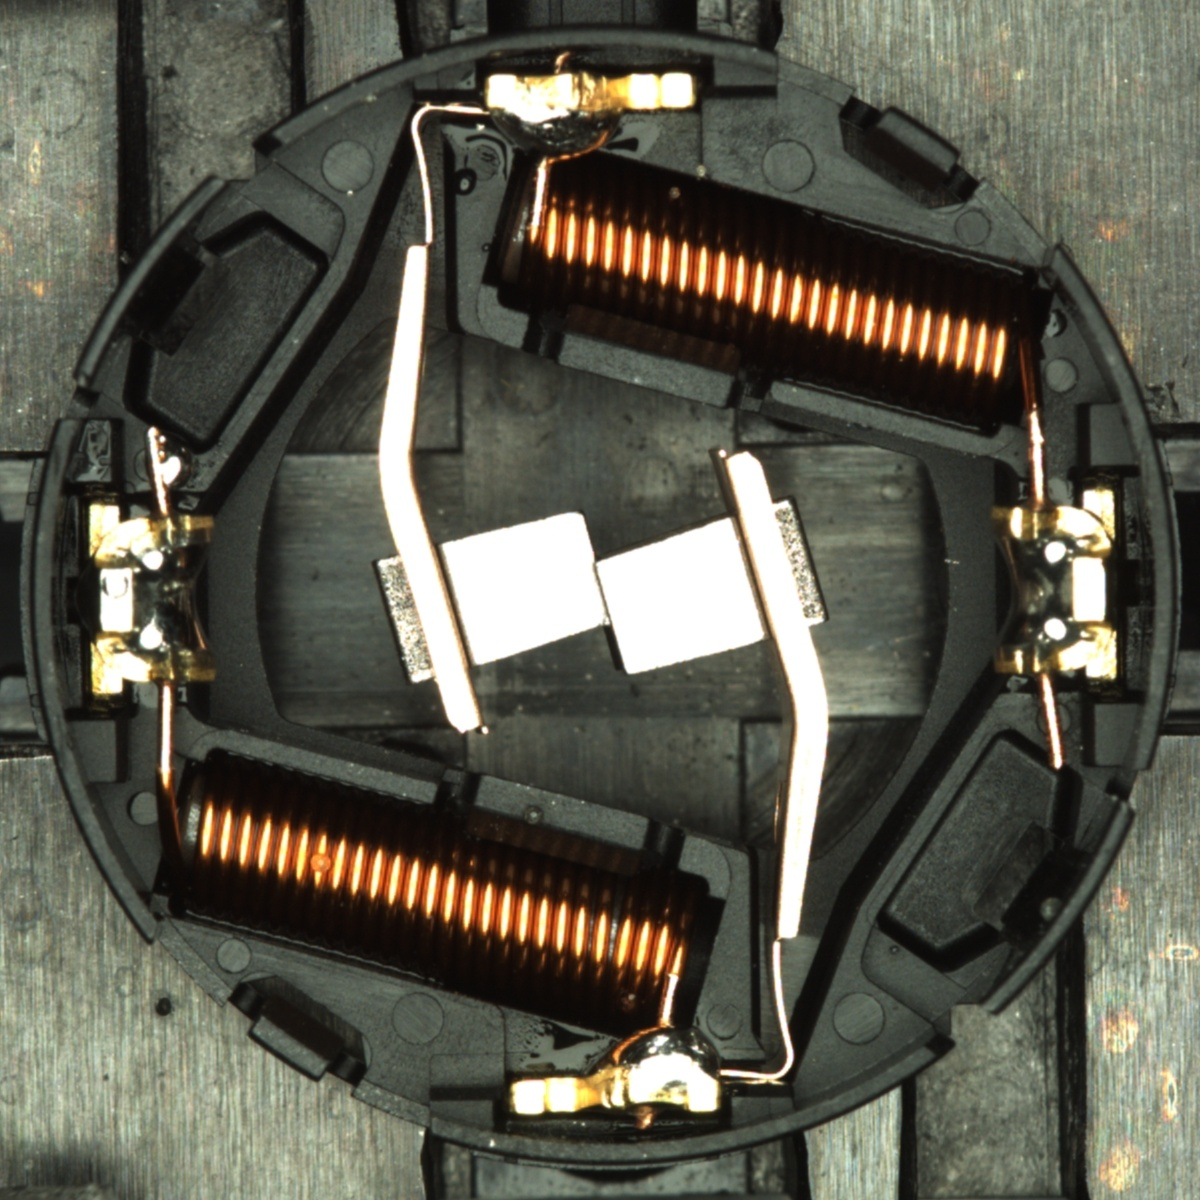1: (713, 929, 943, 1153), (255, 31, 484, 255)
2: (713, 31, 943, 255), (255, 929, 484, 1153)
3: (943, 703, 1171, 929), (25, 255, 255, 479)
4: (713, 703, 943, 929), (255, 255, 484, 479)
5: (484, 815, 713, 1041), (484, 143, 713, 367)
6: (255, 703, 484, 929), (713, 255, 943, 479)
7: (25, 703, 255, 929), (943, 255, 1171, 479)
cacbon: (395, 498, 802, 685)
chau_dien: (82, 498, 222, 699), (984, 487, 1124, 686)
hat_chi: (157, 442, 193, 490)
tay_choi: (484, 67, 700, 167), (509, 1021, 722, 1118)
thanh_de: (954, 786, 1142, 1031), (62, 163, 246, 405)
vun_chi: (154, 442, 195, 490)
